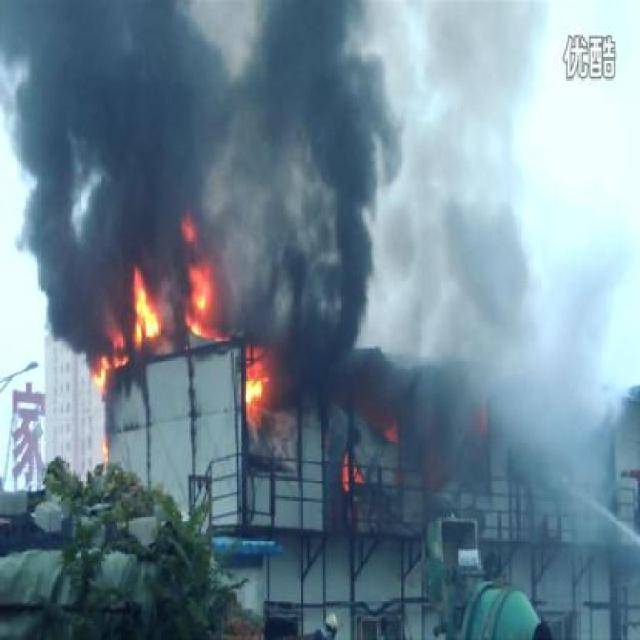Fire: (174, 222, 226, 338), (120, 272, 165, 348), (237, 338, 265, 436), (91, 356, 131, 406), (339, 451, 364, 494)
Smoke: (0, 2, 373, 212), (272, 337, 528, 447), (233, 218, 382, 332), (23, 212, 118, 346)
